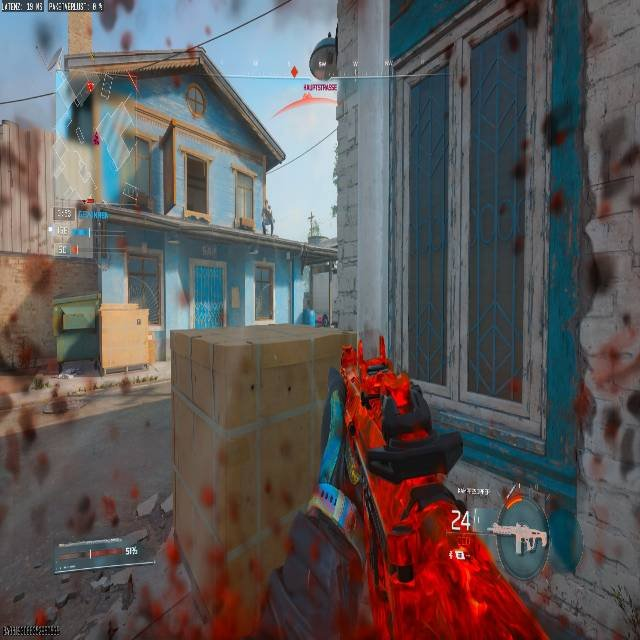player: (316, 312, 327, 327)
